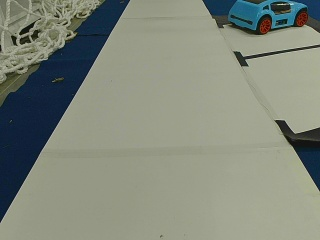car: (228, 1, 309, 33)
